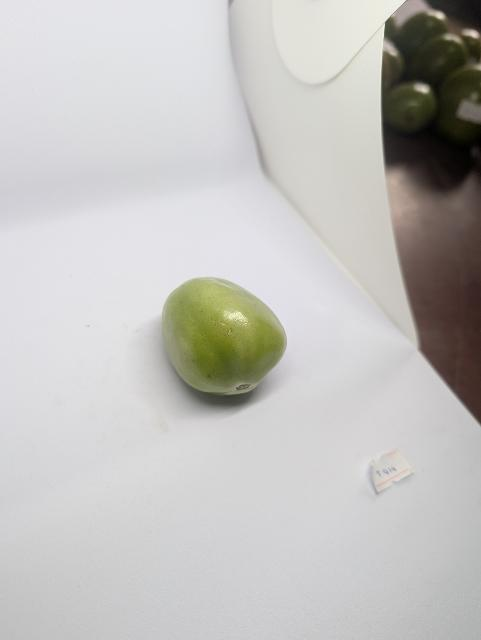green: (159, 275, 289, 397)
